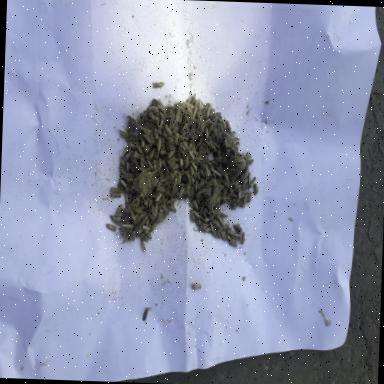pbw: (109, 212, 123, 224), (156, 100, 167, 115), (142, 132, 154, 145), (138, 214, 149, 228), (118, 128, 130, 140), (139, 240, 148, 256), (170, 174, 178, 192), (118, 178, 129, 191), (179, 142, 189, 156), (174, 103, 180, 126), (252, 178, 260, 195), (134, 213, 144, 226), (118, 150, 126, 166), (224, 116, 231, 134), (202, 137, 213, 148), (191, 280, 201, 292), (127, 115, 136, 128), (134, 141, 143, 154), (177, 186, 185, 200), (156, 136, 162, 154), (186, 148, 195, 160), (162, 159, 170, 172), (222, 169, 230, 182), (152, 80, 165, 88), (106, 222, 116, 232), (118, 164, 128, 174), (191, 161, 200, 172), (152, 176, 159, 190), (151, 158, 158, 172), (130, 210, 138, 222), (194, 138, 202, 150), (184, 154, 190, 170), (164, 124, 172, 136), (232, 182, 242, 191), (152, 125, 158, 140), (212, 169, 222, 178), (216, 214, 224, 225), (245, 190, 252, 202), (240, 230, 246, 244), (115, 203, 122, 215), (149, 146, 156, 158), (249, 176, 256, 188), (110, 191, 122, 198), (167, 148, 174, 160), (126, 142, 136, 150), (168, 203, 176, 213), (192, 210, 202, 218), (124, 150, 134, 158), (154, 192, 162, 202), (213, 156, 226, 162), (184, 182, 190, 195), (165, 198, 176, 205), (159, 111, 166, 122), (242, 190, 248, 202), (146, 158, 152, 170), (192, 199, 198, 211), (166, 135, 174, 144), (248, 168, 252, 186), (189, 164, 195, 176), (205, 162, 210, 176), (194, 178, 199, 192), (142, 197, 148, 208), (189, 209, 194, 222), (159, 174, 167, 182), (211, 232, 219, 240), (214, 220, 222, 228), (185, 102, 194, 109), (222, 118, 227, 130), (124, 192, 129, 204), (178, 156, 184, 166), (208, 221, 214, 231), (140, 225, 150, 231), (210, 168, 216, 178), (170, 188, 176, 198), (122, 145, 128, 155), (213, 141, 220, 149), (208, 122, 212, 136), (176, 170, 180, 184), (110, 185, 118, 192), (233, 178, 240, 186), (198, 180, 205, 188), (200, 119, 204, 133), (199, 204, 204, 215), (130, 197, 136, 206), (226, 235, 232, 244), (198, 99, 202, 112), (174, 132, 178, 145), (204, 126, 208, 139), (206, 105, 210, 118), (213, 184, 223, 189), (196, 112, 201, 122), (235, 142, 240, 152), (227, 193, 237, 198), (210, 160, 218, 166), (224, 136, 228, 148), (247, 158, 253, 166), (220, 212, 228, 218), (230, 146, 236, 154), (158, 156, 162, 168), (140, 155, 144, 167), (156, 158, 160, 170), (146, 232, 152, 240), (204, 118, 210, 126), (125, 160, 129, 172), (213, 112, 221, 118), (226, 230, 234, 236), (122, 224, 134, 228), (192, 107, 196, 119), (246, 150, 250, 162), (202, 208, 208, 216), (159, 120, 163, 131), (242, 184, 249, 190), (241, 158, 246, 166), (134, 232, 144, 236), (140, 237, 148, 242), (233, 232, 241, 237), (140, 137, 144, 147), (204, 226, 210, 232), (240, 192, 246, 198), (200, 168, 204, 177), (190, 201, 194, 209), (238, 190, 241, 200), (224, 195, 230, 200), (195, 220, 202, 224), (201, 222, 208, 226)
